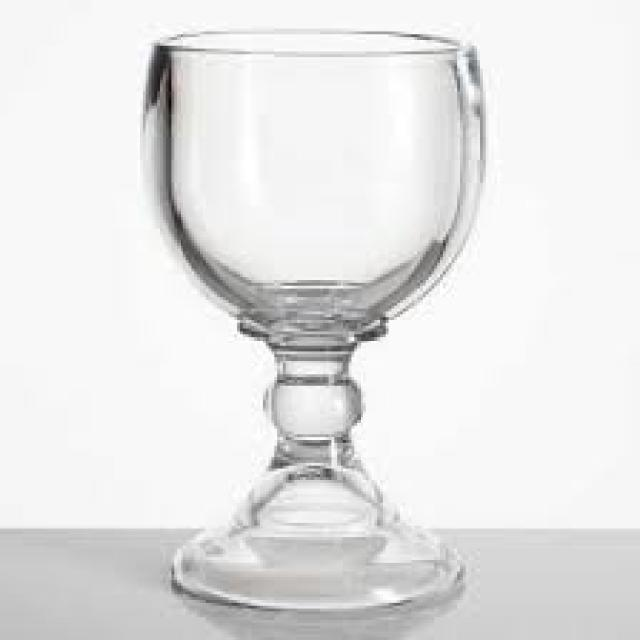Glass: (143, 33, 486, 617)
